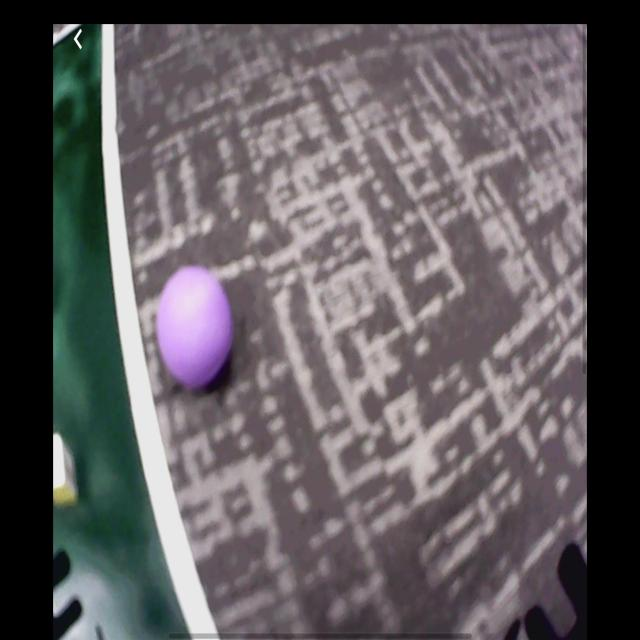ball: (154, 266, 233, 389)
